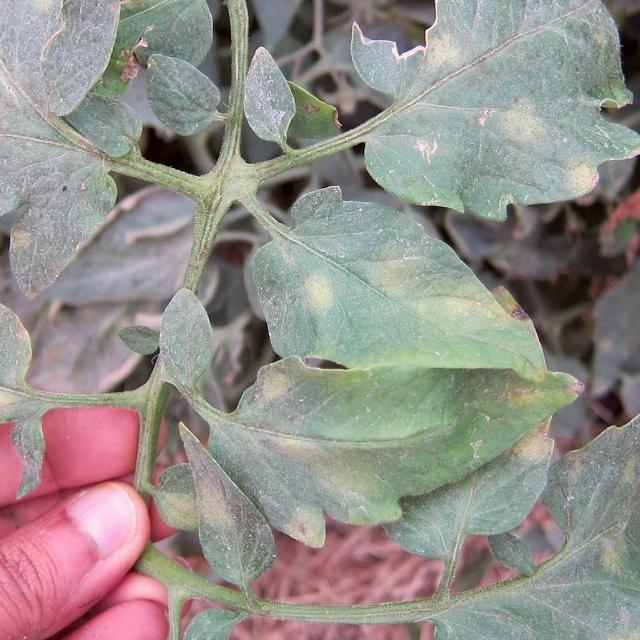Tomato mold leaf: (257, 185, 566, 470), (177, 379, 598, 582), (337, 0, 640, 223), (0, 0, 126, 280), (539, 356, 640, 608), (378, 573, 640, 640), (0, 248, 46, 487)
